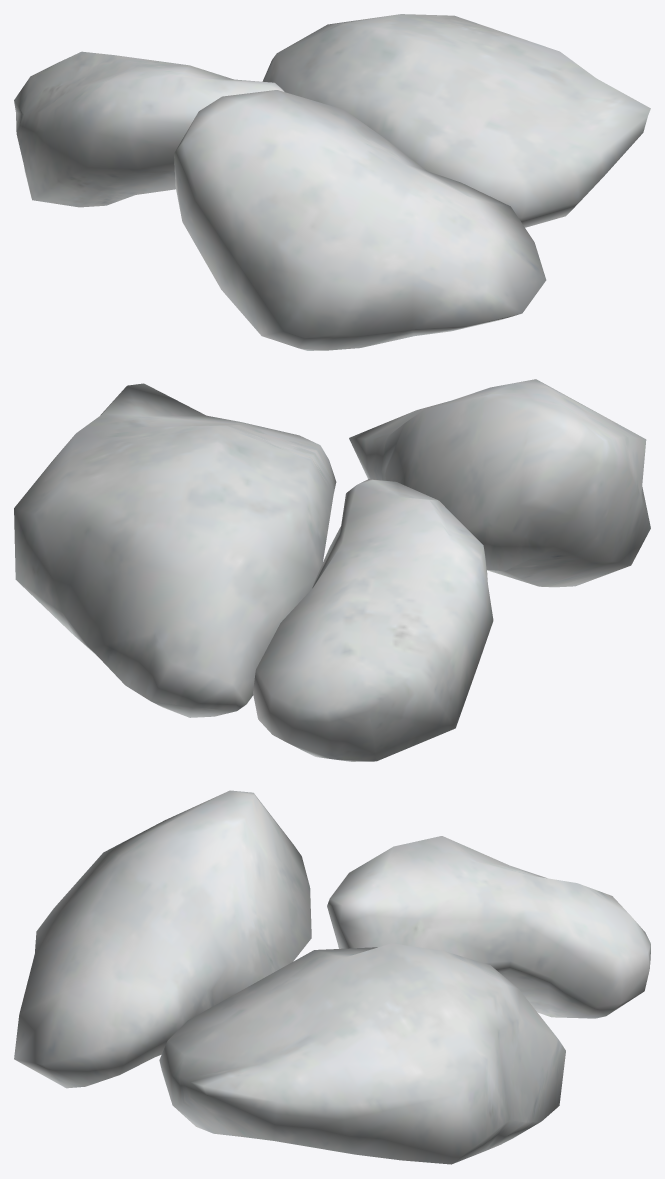
File: Snowpile00.FBX
The picture shows the model from 3 angles, top to bottom: view 1: azimuth 30°, elevation 25°; view 2: azimuth 150°, elevation 25°; view 3: azimuth 270°, elevation 25°; orthographic projection. The views are drawn at different scales.
Visible parts, largest first — view 1: Snowpile01; view 2: Snowpile01; view 3: Snowpile01.
Part boxes in pixels (<box>): Snowpile01: <box>14,14,650,350</box>; Snowpile01: <box>14,379,650,761</box>; Snowpile01: <box>14,790,650,1164</box>.
Size of the model in its own units: 401 by 196 by 473.
